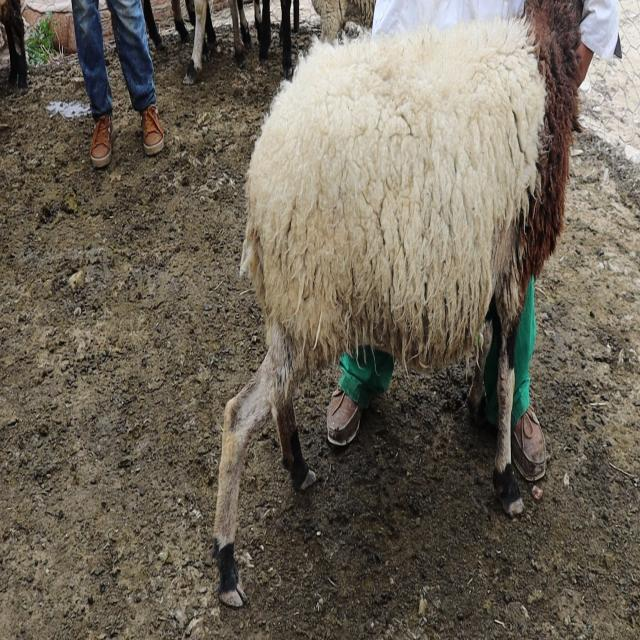Score_2: (213, 0, 582, 606)
